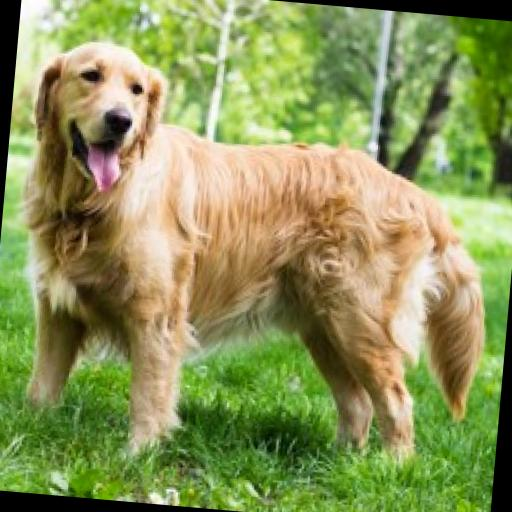dog: (0, 34, 505, 484)
